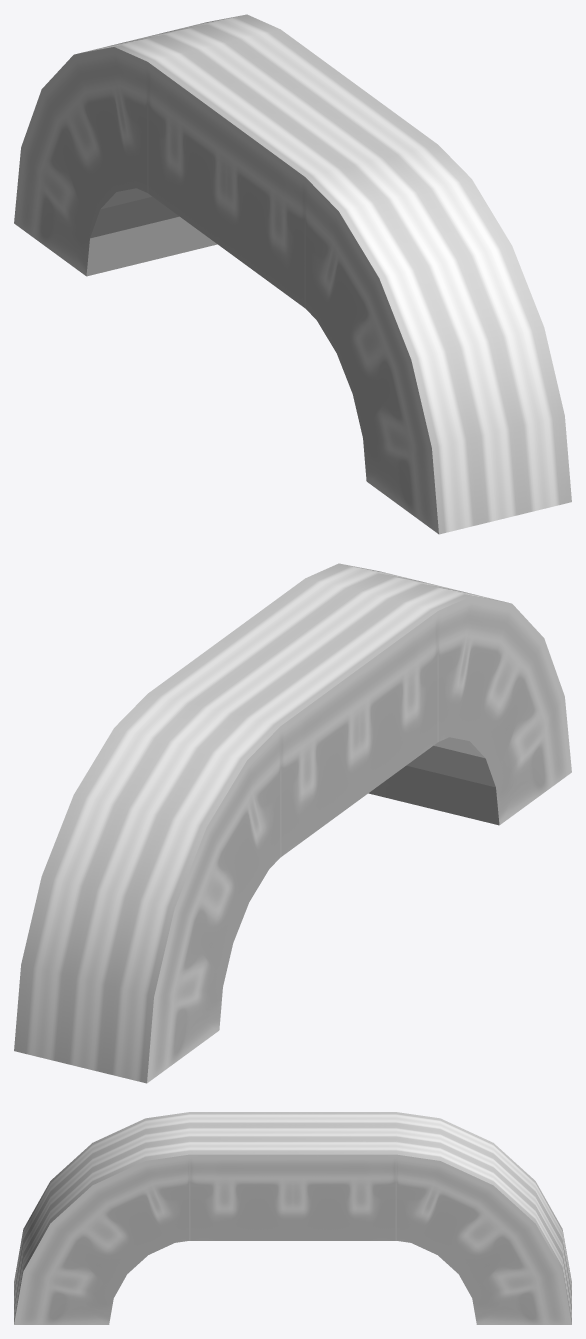
File: Arch_b.fbx
3 renders of one model, top to bottom at view 1: azimuth 30°, elevation 25°; view 2: azimuth 150°, elevation 25°; view 3: azimuth 270°, elevation 25°, orthographic. The views are drawn at different scales.
Visible parts, largest first — view 1: polySurface8; view 2: polySurface8; view 3: polySurface8.
Boxes of the visible parts, x1,y1,x2,y2 form: polySurface8: [14, 14, 571, 534]; polySurface8: [14, 563, 571, 1083]; polySurface8: [14, 1112, 571, 1324].
Size of the model in its own units: 0.5296 by 0.9878 by 2.93.
